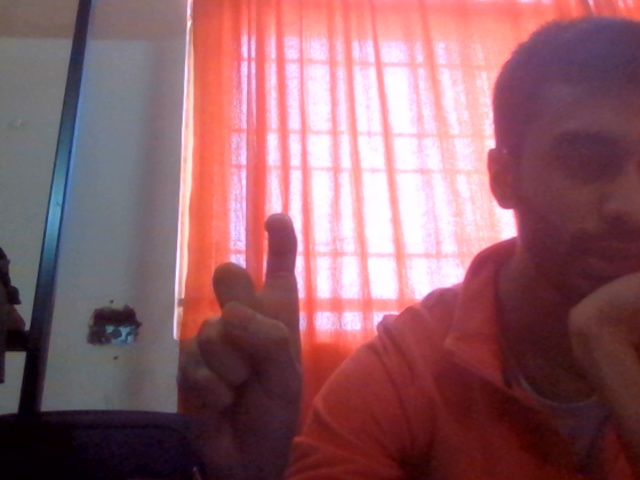X: (164, 199, 352, 480)
